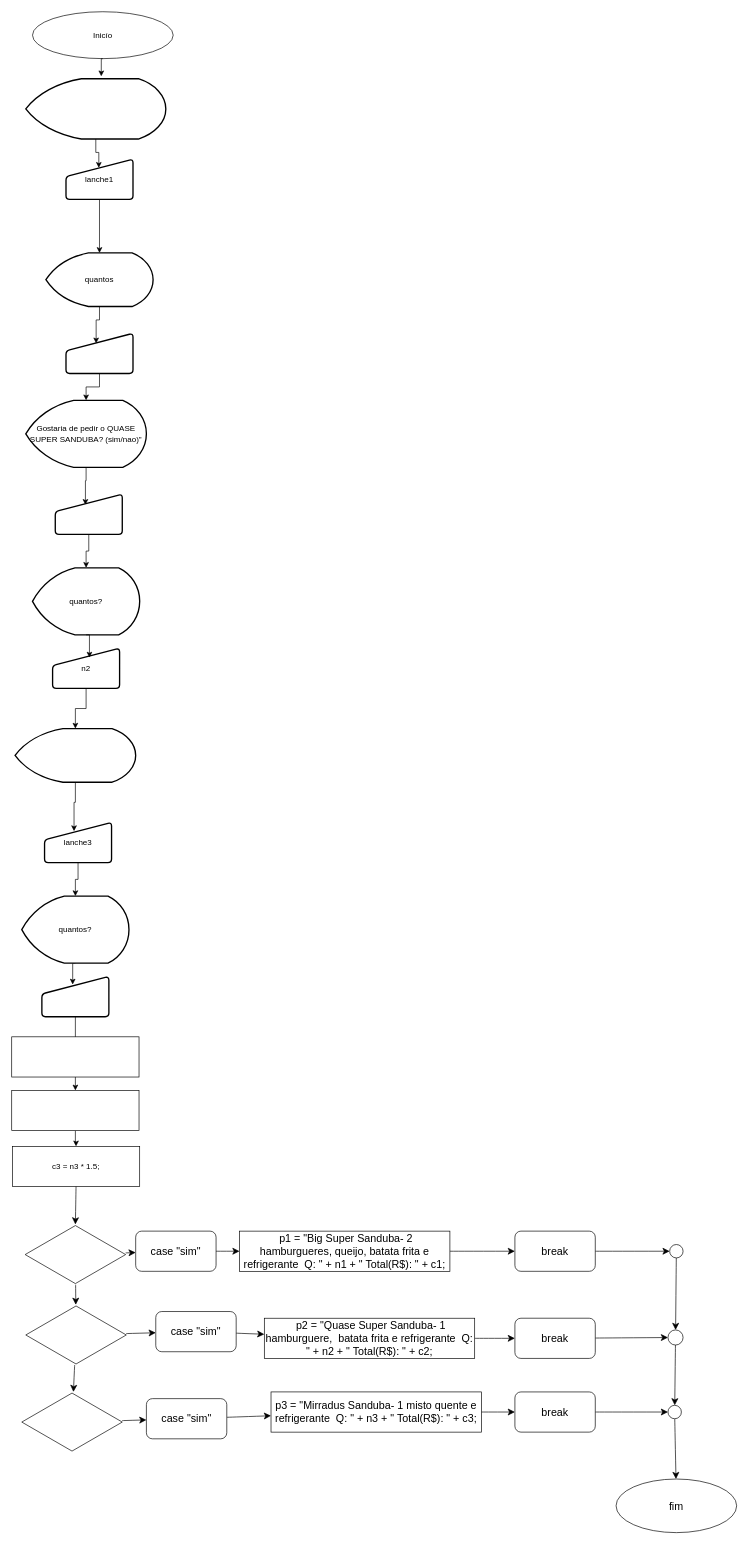
The diagram is 748 pixels wide and 1544 high, and some of its shapes have lost their labels. The centre of each missing label's shape, as x and y in pixels:
"c1 = n1 * 5;" goes at point 75,1056.
"c2 = n2 * 3;" goes at point 75,1110.
"Gostaria de pedir o BIG SUPER SANDUBA? (sim/nao)" goes at point 95,108.
"Gostaria de pedir o MIRRANDUS SANDUBA? (sim/nao)" goes at point 75,755.
"lanche2" goes at point 88,514.
"n1" goes at point 99,353.
"n3" goes at point 75,996.
"switch (lanche1)" goes at point 75,1254.
"switch (lanche2)" goes at point 75,1334.
"switch (lanche3)" goes at point 71,1421.
